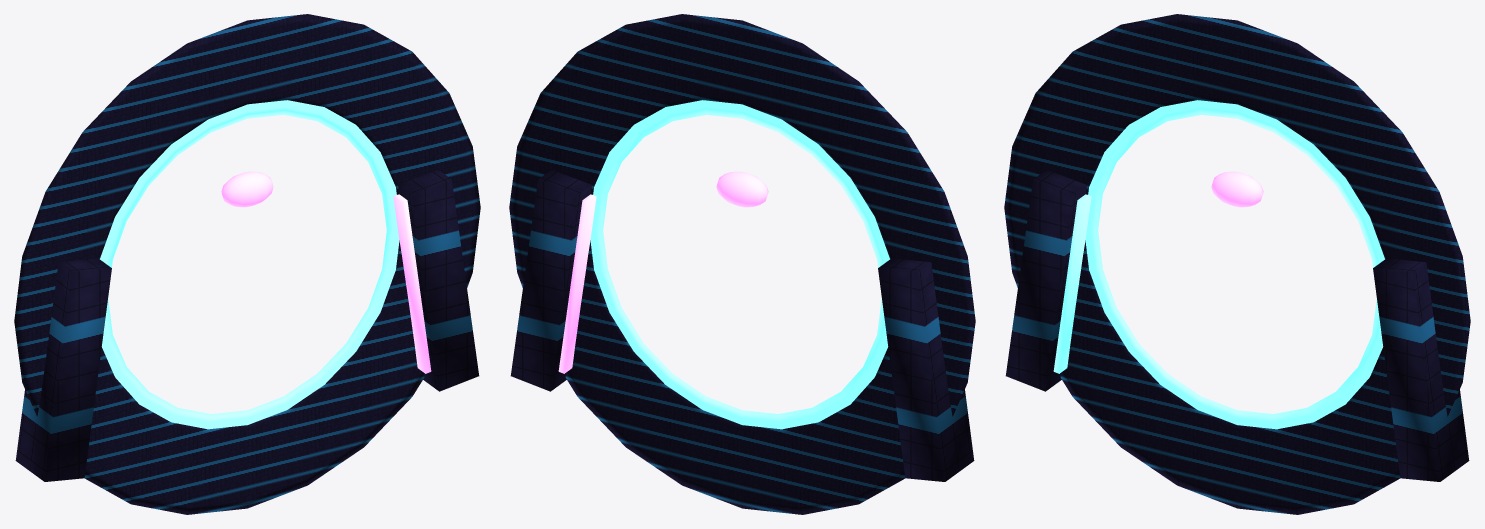
Rendered from prop_space_arch.glb.
3 views of the same model, side by side, from view 1: azimuth 30°, elevation 25°; view 2: azimuth 150°, elevation 25°; view 3: azimuth 330°, elevation 25° (orthographic).
Visible parts, largest first — view 1: WarpLeg_-1.0; view 2: WarpLeg_-1.0; view 3: WarpLeg_-1.0.
Part boxes in pixels (x1=…): WarpLeg_-1.0: x1=14, y1=14, x2=480, y2=514; WarpLeg_-1.0: x1=509, y1=14, x2=975, y2=514; WarpLeg_-1.0: x1=1004, y1=14, x2=1470, y2=514.
Bounding box in the file's own units: 37.09 × 37.09 × 4.
Materials: 3 (1 with a texture image).
